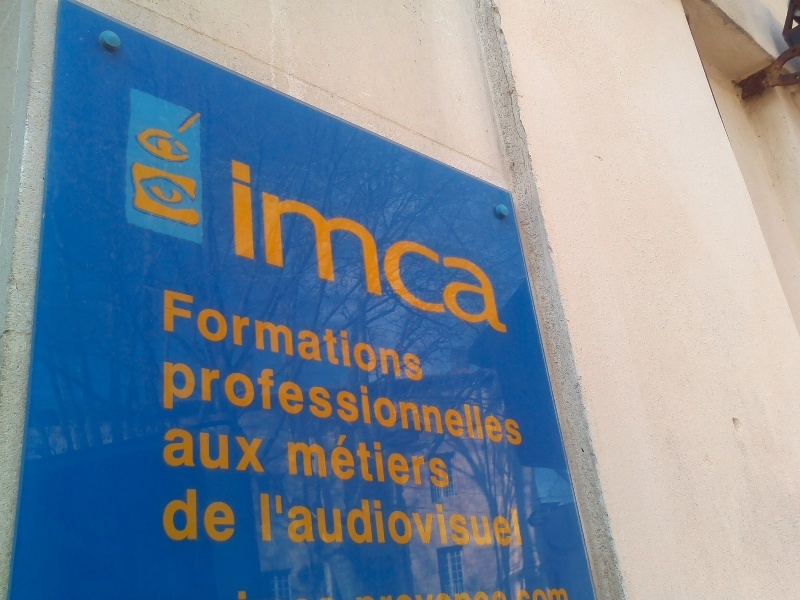text: (225, 152, 240, 335), (241, 152, 256, 335), (257, 152, 272, 335), (273, 152, 288, 335), (289, 152, 304, 335), (305, 152, 320, 335), (321, 152, 336, 335), (337, 152, 352, 335), (353, 152, 368, 335), (369, 152, 384, 335), (385, 152, 400, 335), (401, 152, 416, 335), (417, 152, 432, 335), (433, 152, 448, 335), (449, 152, 464, 335), (465, 152, 480, 335), (481, 152, 496, 335), (497, 152, 510, 335), (161, 349, 176, 451), (177, 349, 192, 451), (193, 349, 208, 451), (209, 349, 224, 451), (225, 349, 240, 451), (241, 349, 256, 451), (257, 349, 272, 451), (273, 349, 288, 451), (289, 349, 304, 451), (305, 349, 320, 451), (321, 349, 336, 451), (337, 349, 352, 451), (353, 349, 368, 451), (369, 349, 384, 451), (385, 349, 400, 451), (401, 349, 416, 451), (417, 349, 432, 451), (433, 349, 448, 451), (449, 349, 464, 451), (465, 349, 480, 451), (481, 349, 496, 451), (497, 349, 512, 451), (161, 283, 176, 383), (177, 283, 192, 383), (193, 283, 208, 383), (209, 283, 224, 383), (225, 283, 240, 383), (241, 283, 256, 383), (257, 283, 272, 383), (273, 283, 288, 383), (289, 283, 304, 383), (305, 283, 320, 383), (321, 283, 336, 383), (337, 283, 352, 383), (353, 283, 368, 383), (369, 283, 384, 383), (385, 283, 400, 383), (401, 283, 416, 383), (513, 349, 527, 451), (417, 283, 427, 383), (289, 425, 304, 490), (305, 425, 320, 490), (321, 425, 336, 490), (337, 425, 352, 490), (353, 425, 368, 490), (369, 425, 384, 490), (385, 425, 400, 490), (401, 425, 416, 490), (417, 425, 432, 490), (433, 425, 448, 490), (161, 483, 176, 546), (177, 483, 192, 546), (193, 483, 208, 546), (209, 483, 224, 546), (273, 491, 288, 551), (289, 491, 304, 551), (305, 491, 320, 551), (321, 491, 336, 551), (337, 491, 352, 551), (353, 491, 368, 551), (369, 491, 384, 551), (385, 491, 400, 551), (401, 491, 416, 551), (417, 491, 432, 551), (433, 491, 448, 551), (449, 491, 464, 551), (465, 491, 480, 551), (481, 491, 496, 551), (497, 491, 512, 551), (225, 483, 238, 546), (259, 491, 272, 551), (513, 491, 526, 551), (177, 425, 192, 473), (193, 425, 208, 473), (209, 425, 224, 473), (225, 425, 240, 473), (241, 425, 256, 473), (163, 425, 176, 473), (257, 425, 268, 473), (222, 152, 224, 335), (449, 425, 453, 490), (561, 583, 577, 599), (225, 583, 240, 599), (241, 583, 256, 599), (257, 583, 272, 599), (273, 583, 288, 599), (289, 583, 304, 599), (305, 583, 320, 599), (321, 583, 336, 599), (337, 583, 352, 599), (353, 583, 368, 599), (369, 583, 384, 599), (385, 583, 400, 599), (401, 583, 416, 599), (417, 583, 432, 599), (433, 583, 448, 599), (449, 583, 464, 599), (465, 583, 480, 599), (481, 583, 496, 599), (497, 583, 512, 599), (513, 583, 528, 599), (529, 583, 544, 599), (545, 583, 560, 599), (158, 483, 160, 546), (159, 349, 160, 451)
